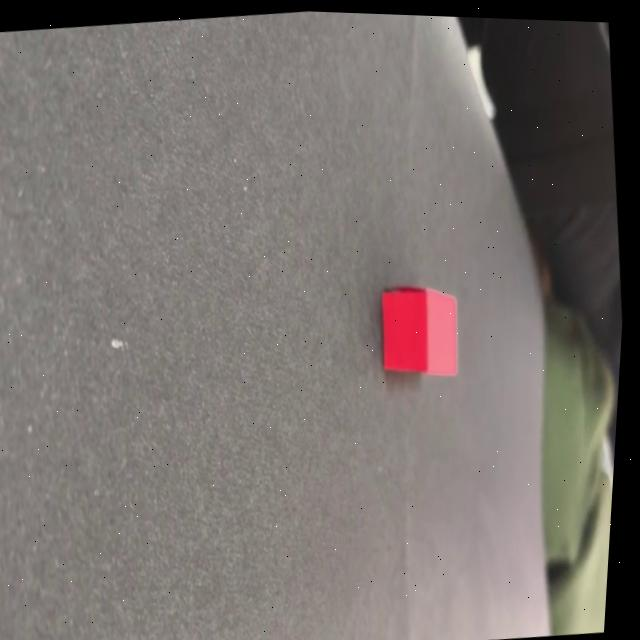red block: (373, 278, 466, 383)
